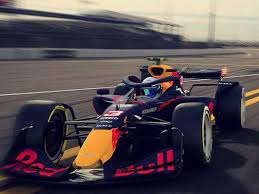FormulaOneCar: (1, 55, 248, 185)
